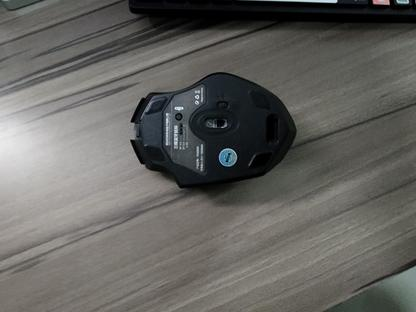mouse: (128, 70, 297, 191)
